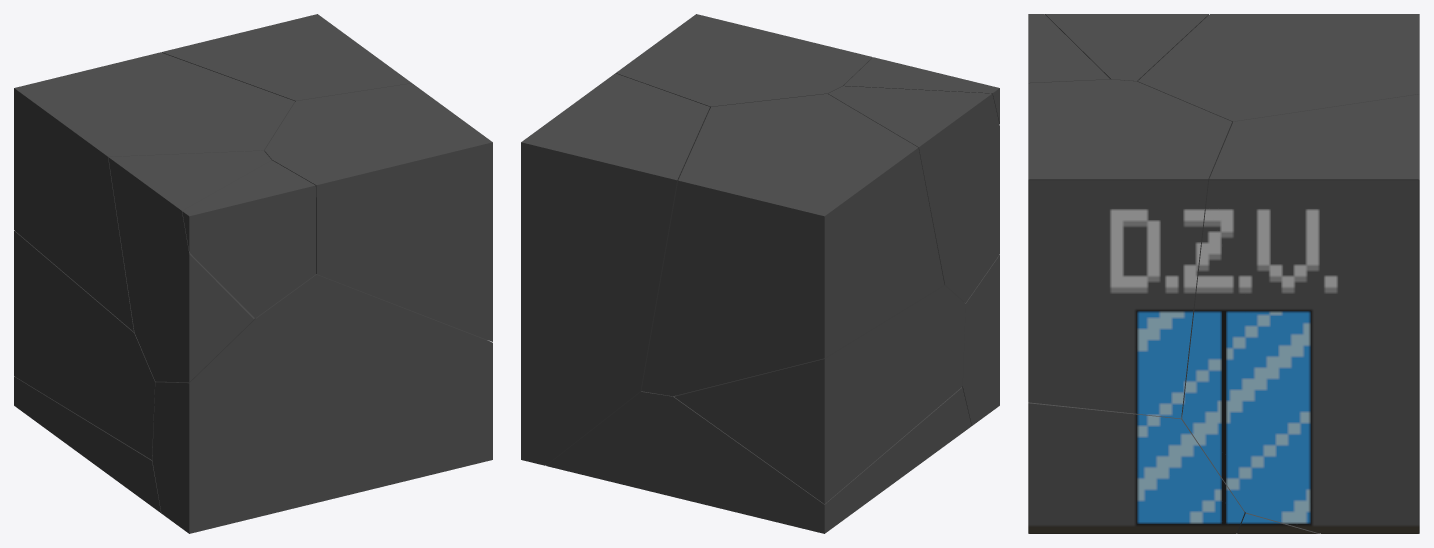
File: GlassBuildingH128x128_Ground03_break.fbx
3 renders of one model, left to right at view 1: azimuth 30°, elevation 25°; view 2: azimuth 150°, elevation 25°; view 3: azimuth 270°, elevation 25°, orthographic. The views are drawn at different scales.
Parts seen in each view (by area): view 1: Ground03Break03, Ground03Break02, Ground03Break08, Ground03Break06, Ground03Break04, Ground03Break07, Ground03Break05, Ground03Break01; view 2: Ground03Break08, Ground03Break05, Ground03Break04, Ground03Break01, Ground03Break06, Ground03Break02, Ground03Break03, Ground03Break07; view 3: Ground03Break05, Ground03Break02, Ground03Break08, Ground03Break03, Ground03Break06, Ground03Break07, Ground03Break01.
Part boxes in pixels (box(x1,y1,x2,y2)): Ground03Break03: box(152, 274, 492, 533); Ground03Break02: box(264, 83, 492, 341); Ground03Break08: box(14, 52, 294, 331); Ground03Break06: box(108, 150, 271, 382); Ground03Break04: box(14, 230, 155, 459); Ground03Break07: box(182, 160, 315, 318); Ground03Break05: box(161, 14, 411, 101); Ground03Break01: box(14, 376, 161, 512); Ground03Break08: box(641, 93, 944, 396); Ground03Break05: box(521, 73, 709, 465); Ground03Break04: box(674, 285, 965, 504); Ground03Break01: box(546, 387, 971, 533); Ground03Break06: box(828, 86, 999, 302); Ground03Break02: box(616, 14, 872, 109); Ground03Break03: box(962, 255, 999, 425); Ground03Break07: box(844, 57, 999, 123); Ground03Break05: box(1182, 94, 1419, 533); Ground03Break02: box(1028, 79, 1232, 418); Ground03Break08: box(1137, 14, 1419, 123); Ground03Break03: box(1028, 402, 1244, 533); Ground03Break06: box(1045, 14, 1208, 81); Ground03Break07: box(1028, 14, 1109, 83); Ground03Break01: box(1237, 512, 1319, 533).
Size of the model in its own units: 100 by 100 by 100.
Materials: 1 (1 with a texture image).
